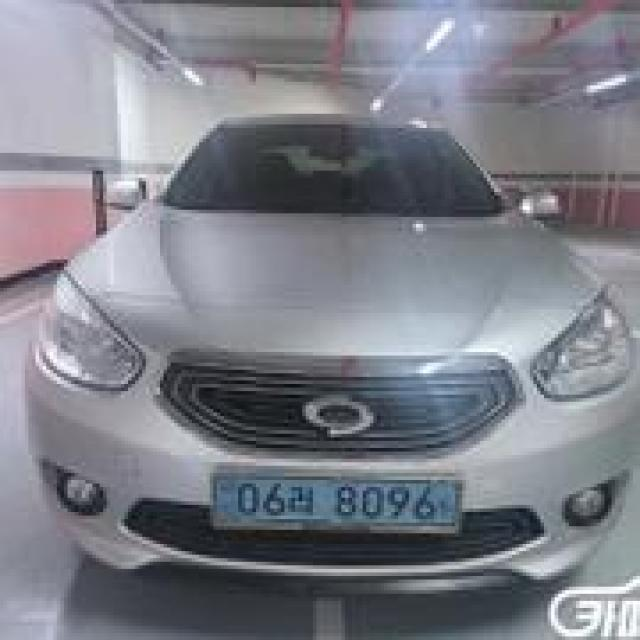EV_plate: (212, 469, 464, 544)
car: (22, 107, 640, 604)
